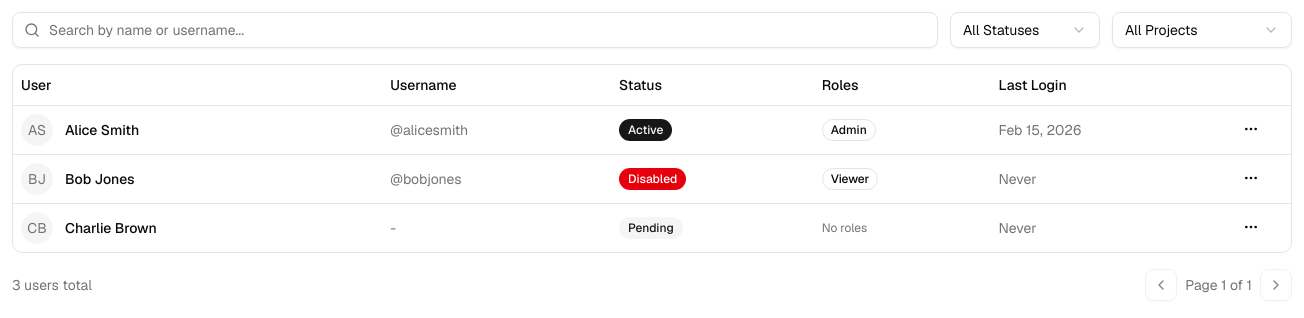
Test: UsersTable › shows empty state when no users match
Type "nonexistent" into the field with placeholder "Search by name or username..." at coordinates (475, 30), box top-left (12, 12), bottom-right (938, 48)
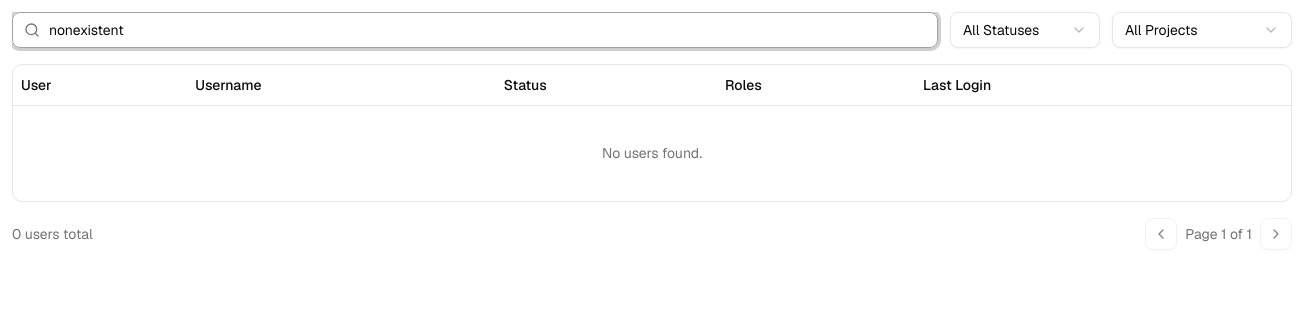
Check: the text "No users found." is shown, box top-left (13, 105), bottom-right (1291, 201)
